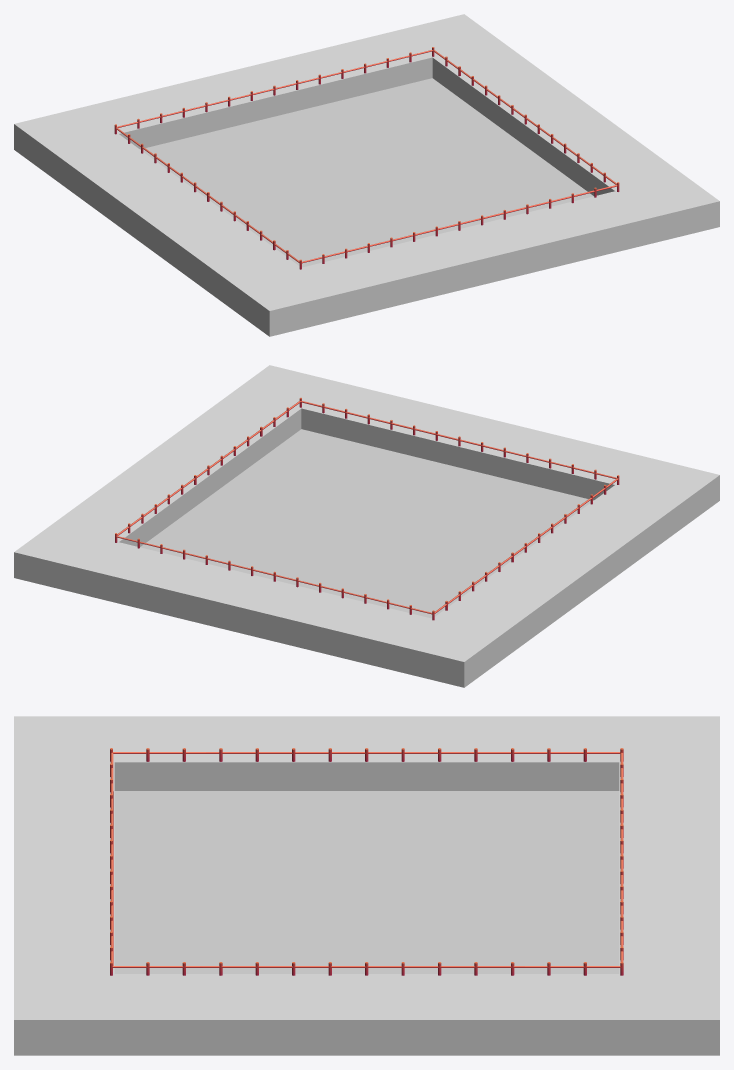
The model's file is Battle_Stage 4.fbx.
The picture shows the model from 3 angles, top to bottom: view 1: azimuth 30°, elevation 25°; view 2: azimuth 150°, elevation 25°; view 3: azimuth 270°, elevation 25°; orthographic projection. The views are drawn at different scales.
Parts seen in each view (by area): view 1: Plane_1.010, Cube.238; view 2: Plane_1.010, Cube.238; view 3: Plane_1.010, Cube.238.
Boxes of the visible parts, x1=… form: Plane_1.010: x1=14, y1=14, x2=719, y2=336; Cube.238: x1=114, y1=47, x2=619, y2=269; Plane_1.010: x1=14, y1=365, x2=719, y2=687; Cube.238: x1=115, y1=397, x2=619, y2=620; Plane_1.010: x1=14, y1=716, x2=719, y2=1055; Cube.238: x1=110, y1=748, x2=623, y2=975.
Size of the model in its own units: 18263 by 1346 by 17959.
